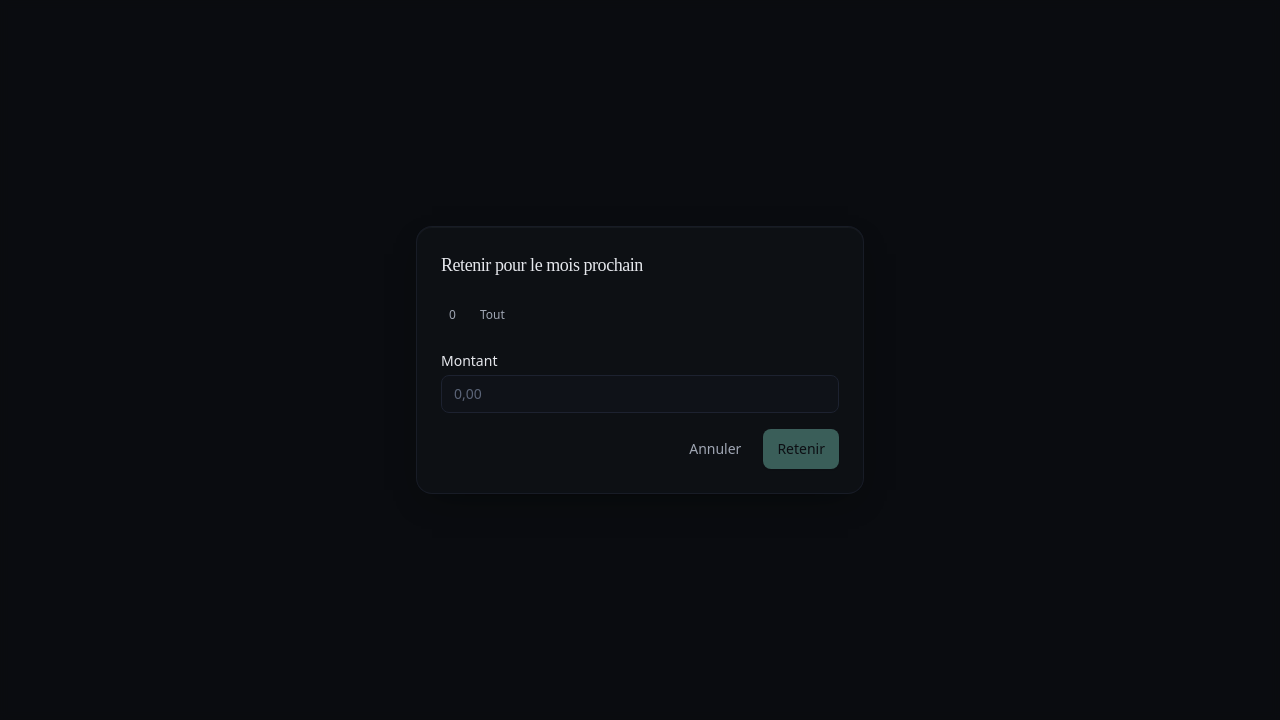
Test: HoldModal › preset "Tout" fills the current pool available
The width and height of the screenshot is (1280, 720).
Step 1. Click the button "Tout" → (492, 315), box top-left (472, 295), bottom-right (513, 335)
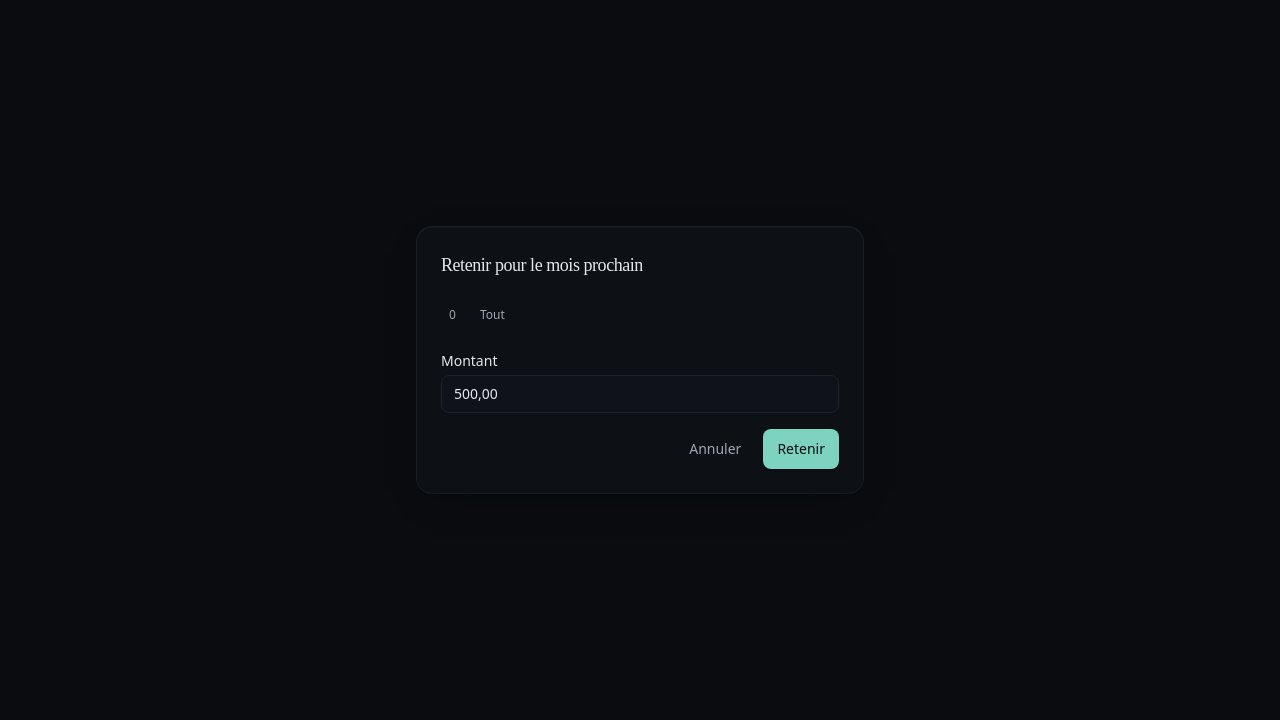
Now the field labelled "Montant" holds "500,00", box top-left (441, 375), bottom-right (839, 413)
